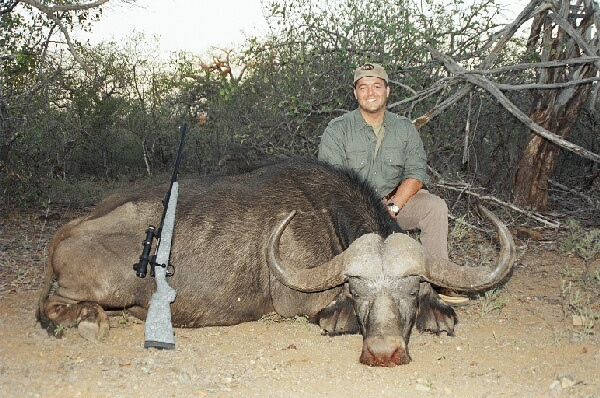buffalo: (32, 158, 519, 367)
